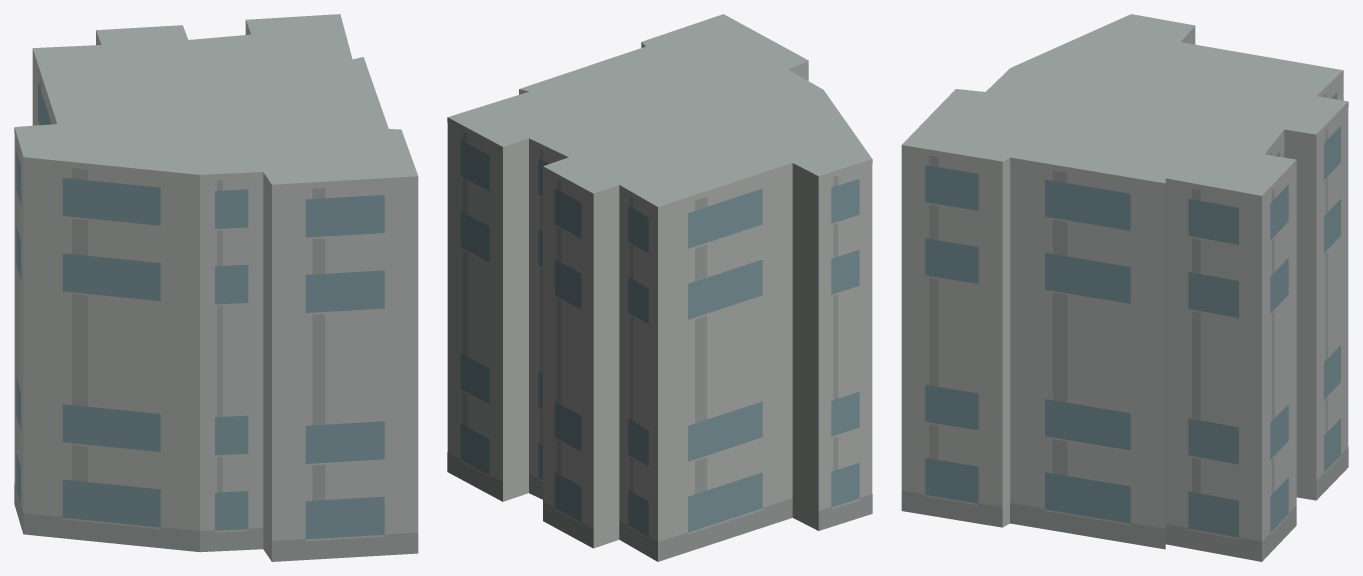
Rendered from survey-upis-32629444.glb.
The picture shows the model from 3 angles, left to right: view 1: azimuth 30°, elevation 25°; view 2: azimuth 150°, elevation 25°; view 3: azimuth 270°, elevation 25°; orthographic projection. The views are drawn at different scales.
Visible parts, largest first — view 1: survey-upis-32629444.tmp; view 2: survey-upis-32629444.tmp; view 3: survey-upis-32629444.tmp.
Boxes of the visible parts, x1,y1,x2,y2 form: survey-upis-32629444.tmp: (14,14,418,561); survey-upis-32629444.tmp: (447,14,872,561); survey-upis-32629444.tmp: (901,14,1348,561).
Size of the model in its own units: 16.27 by 15.25 by 16.89.
